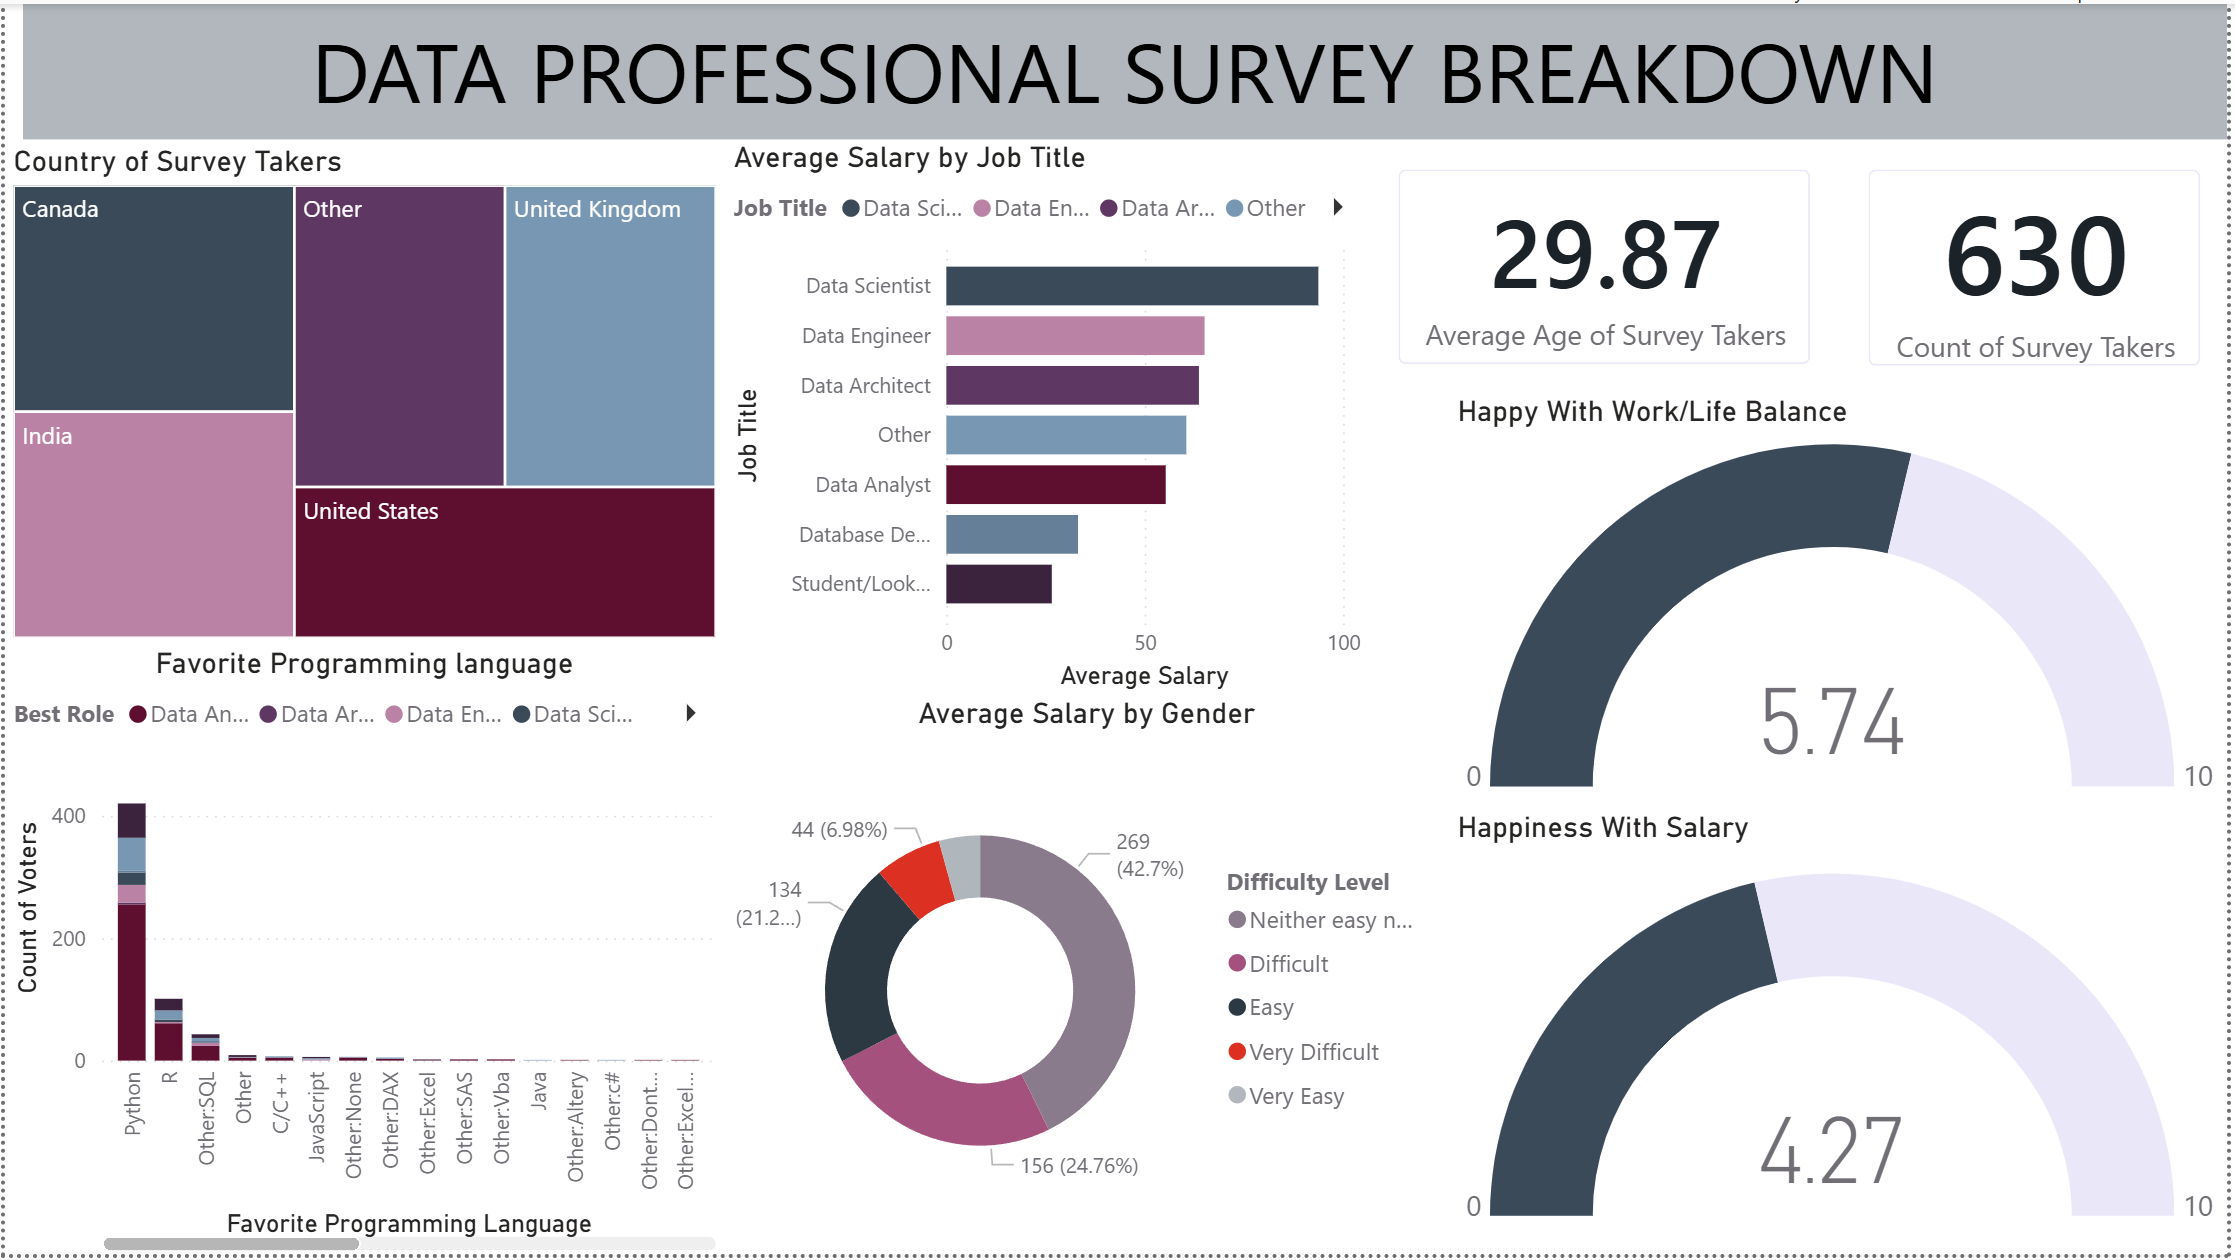

The dashboard page shown, as its layout file describes it:
{"tool":"powerbi","page":{"name":"Page 1","canvas":[1280,720],"ordinal":0},"visuals":[{"type":"textbox","box":[10.7,0,1269.3,78.1],"z":0},{"type":"cardVisual","fields":{"Data":["Count(Data Professional Survey.Unique ID)"]},"box":[1056.9,77.8,225.7,147.9],"z":1000},{"type":"cardVisual","fields":{"Data":["Avg(Data Professional Survey.Q10 - Current Age)"]},"box":[785.3,77.8,271.6,146.6],"z":2000},{"type":"barChart","title":"Average Salary by Job Title","fields":{"Category":["Data Professional Survey.Q1 - Which Title Best Fits your Current Role?.1"],"Y":["Avg(Data Professional Survey.Average Salary)"],"Series":["Data Professional Survey.Q1 - Which Title Best Fits your Current Role?.1"]},"box":[414.3,77.8,371,321.3],"z":3000},{"type":"columnChart","title":"Favorite Programming language","fields":{"Category":["Data Professional Survey.Q5 - Favorite Programming Language"],"Y":["CountNonNull(Data Professional Survey.Unique ID)"],"Series":["Data Professional Survey.Q1 - Which Title Best Fits your Current Role?.1"]},"box":[0,369.7,414.3,353.1],"z":4000},{"type":"treemap","title":"Country of Survey Takers","fields":{"Group":["Data Professional Survey.Q11 - Which Country do you live in?.1"],"Values":["Count(Data Professional Survey.Q11 - Which Country do you live in?.1)"]},"box":[0,80.3,414.3,289.4],"z":5000},{"type":"gauge","title":"Happy With Work/Life Balance","fields":{"Y":["Avg(Data Professional Survey.Q6 - How Happy are you in your Current Position with the following? (Work/Life Balance))"],"MinValue":["Min(Data Professional Survey.Q6 - How Happy are you in your Current Position with the following? (Work/Life Balance))"],"MaxValue":["Max(Data Professional Survey.Q6 - How Happy are you in your Current Position with the following? (Work/Life Balance))1"]},"box":[831.2,224.4,450,241],"z":6000},{"type":"gauge","title":"Happiness With Salary","fields":{"Y":["Avg(Data Professional Survey.Q6 - How Happy are you in your Current Position with the following? (Salary))"],"MinValue":["Min(Data Professional Survey.Q6 - How Happy are you in your Current Position with the following? (Salary))"],"MaxValue":["Max(Data Professional Survey.Q6 - How Happy are you in your Current Position with the following? (Salary))"]},"box":[831.2,464.1,450,256.3],"z":7000},{"type":"donutChart","title":"Average Salary by Gender","fields":{"Category":["Data Professional Survey.Q7 - How difficult was it for you to break into Data?"],"Y":["CountNonNull(Data Professional Survey.Q7 - How difficult was it for you to break into Data?)"]},"box":[414.3,399,416.9,321.3],"z":7001}]}

Visuals, with their boxes in screenshot pixels (x1, y1, x2, y2), scaled from the page's 1280x720 canvas onto the 2235x1260 screenshot:
textbox: 19, 0, 2234, 137
cardVisual - Count(Data Professional Survey.Unique ID): 1845, 136, 2234, 395
cardVisual - Avg(Data Professional Survey.Q10 - Current Age): 1371, 136, 1845, 393
"Average Salary by Job Title" barChart: 723, 136, 1371, 698
"Favorite Programming language" columnChart: 0, 647, 723, 1259
"Country of Survey Takers" treemap: 0, 141, 723, 647
"Happy With Work/Life Balance" gauge: 1451, 393, 2234, 814
"Happiness With Salary" gauge: 1451, 812, 2234, 1259
"Average Salary by Gender" donutChart: 723, 698, 1451, 1259
